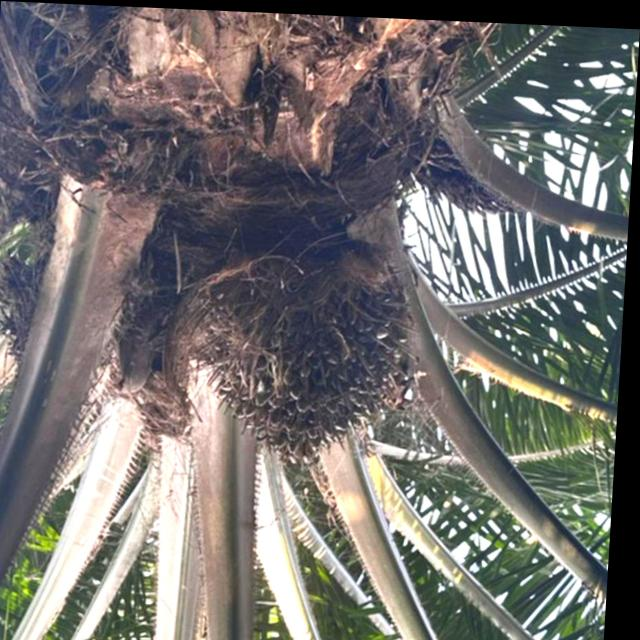almost: (190, 230, 426, 474)
